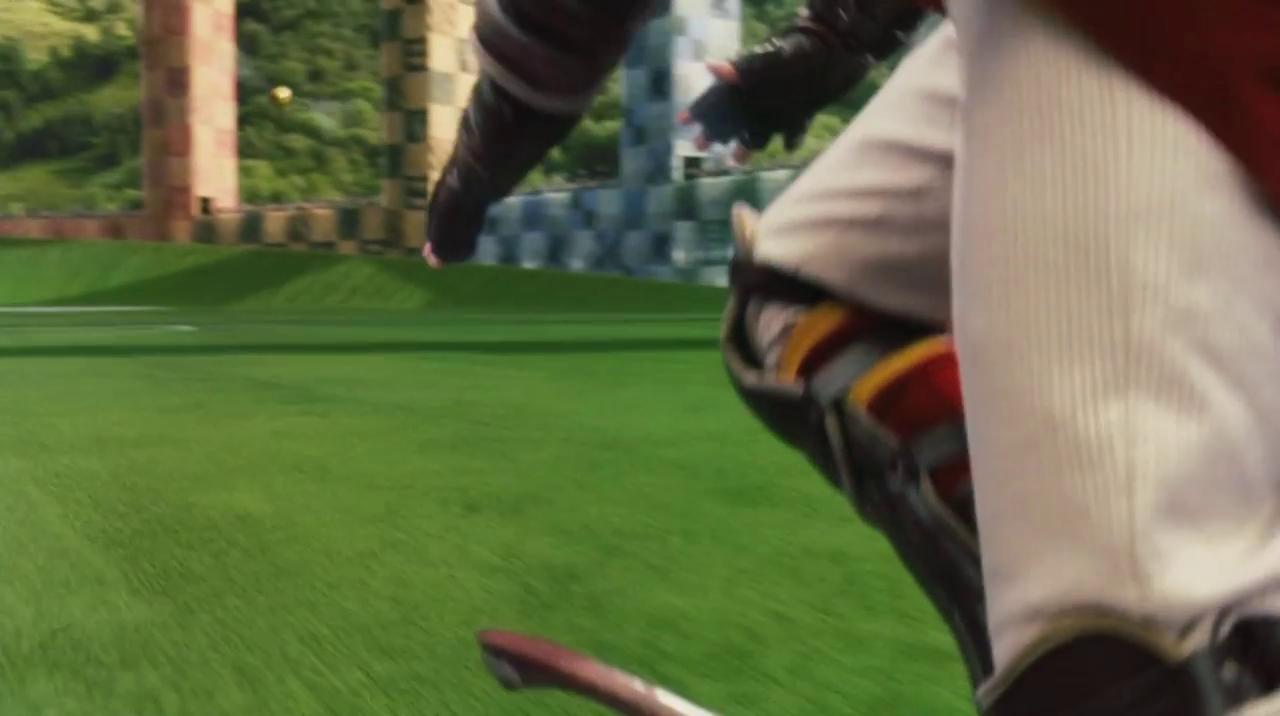snitch: (271, 83, 295, 110)
